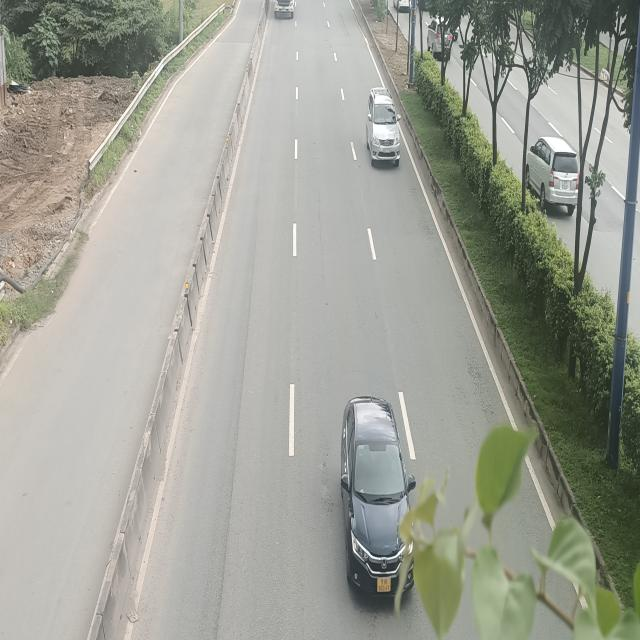car: (340, 398, 415, 601), (365, 90, 398, 166)
